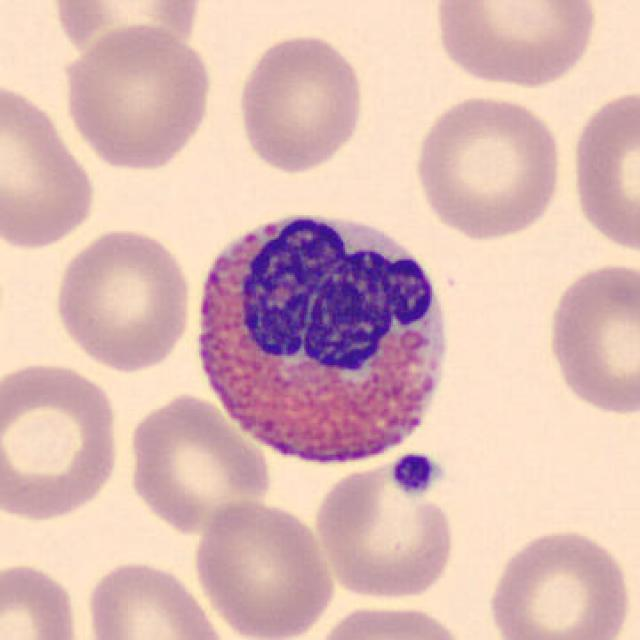Eosinophil: (181, 196, 464, 485)
Platelets: (389, 450, 443, 499)
RBC: (57, 19, 215, 173), (409, 90, 567, 241), (122, 390, 276, 538), (311, 453, 461, 603), (188, 495, 338, 640), (50, 224, 194, 374), (0, 356, 124, 525), (233, 28, 368, 176), (0, 76, 100, 254), (483, 523, 634, 640), (540, 258, 638, 420), (428, 0, 601, 90), (565, 83, 640, 257), (80, 555, 231, 640), (46, 0, 208, 67), (0, 557, 85, 640), (308, 599, 471, 640)
